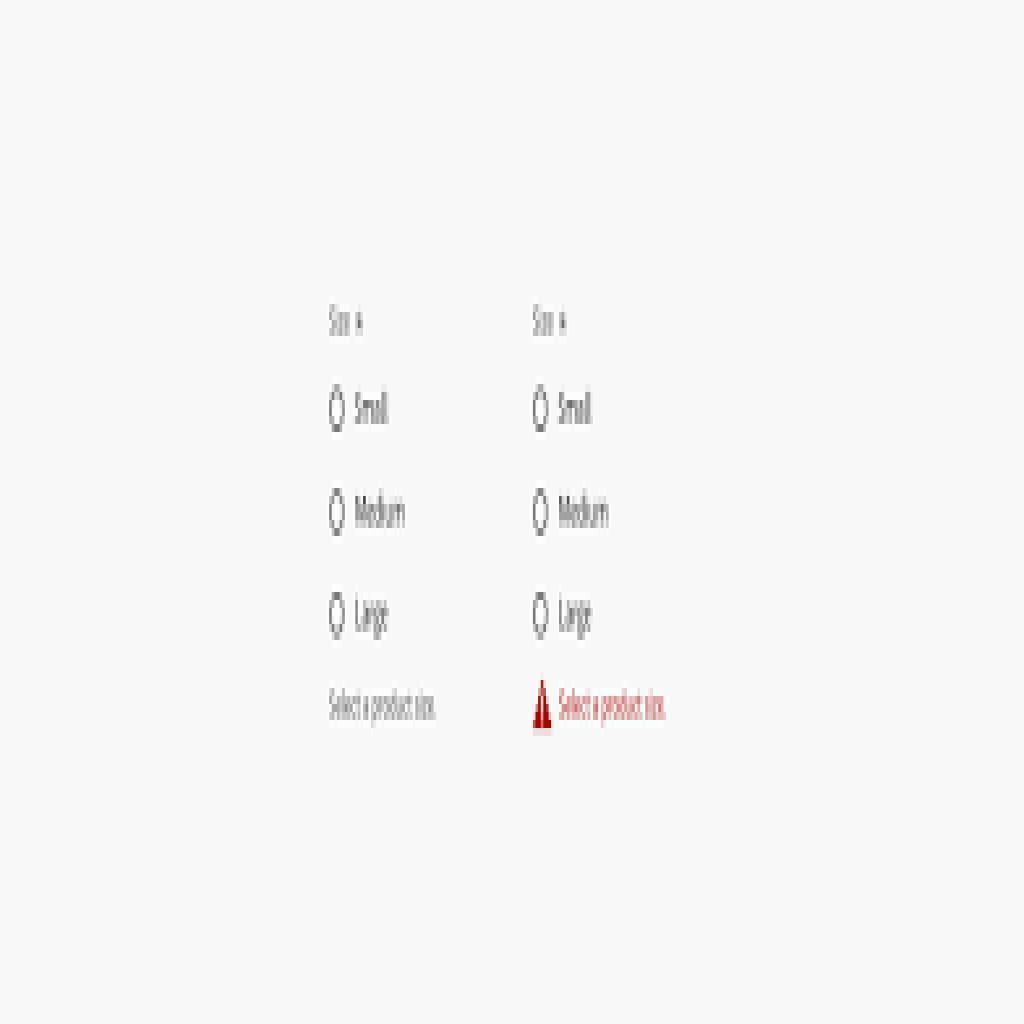icon: (526, 674, 558, 740)
radio: (322, 479, 354, 537), (326, 373, 349, 441), (528, 481, 554, 537), (525, 585, 551, 639), (528, 382, 553, 438), (326, 586, 352, 639)
